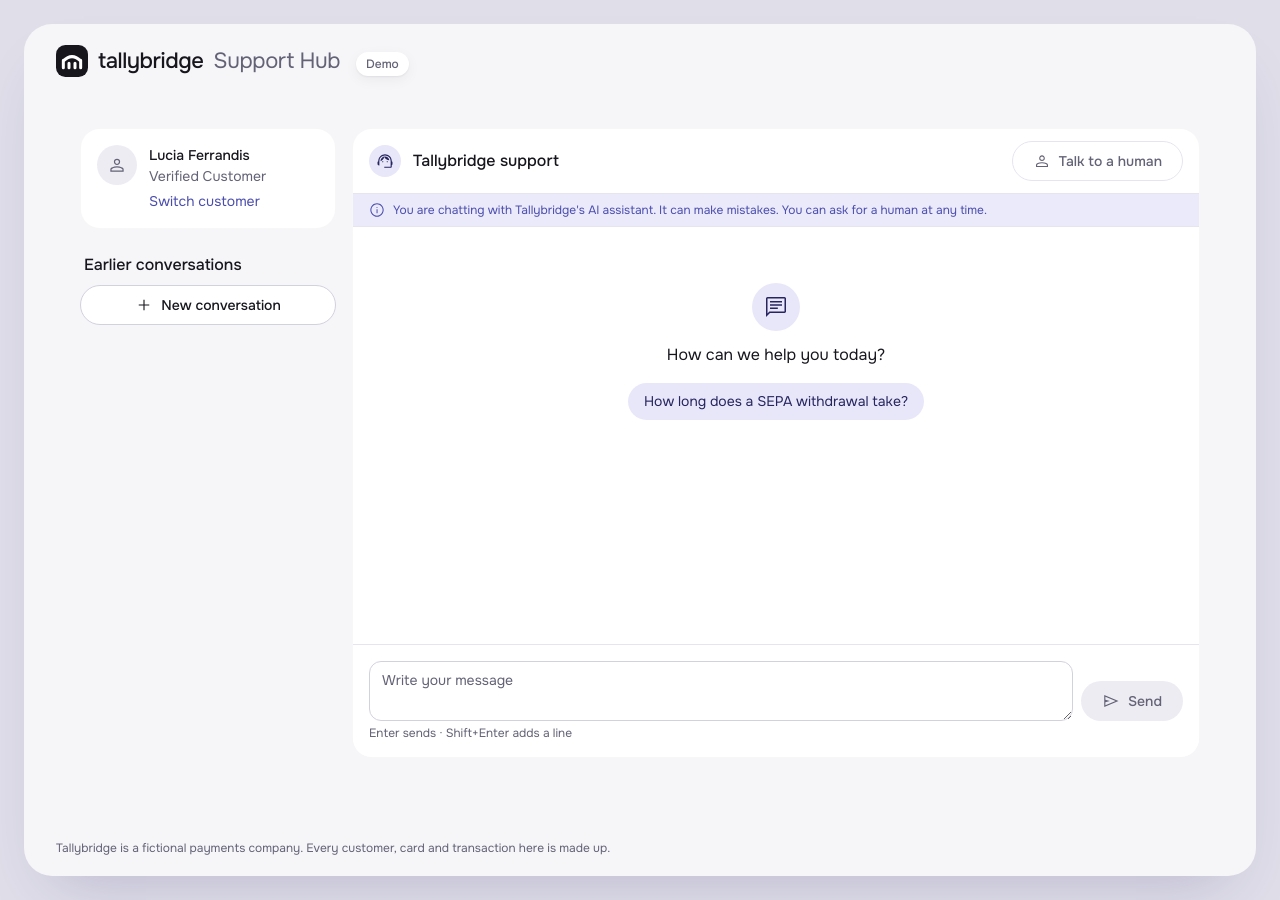
Test case: chat states (UI §2) › budget stop or failed run: says a human will answer
The width and height of the screenshot is (1280, 900).
Type "Hello" into the text box labelled "your message" at coordinates (721, 691), box [369, 661, 1073, 721]
Then press Enter
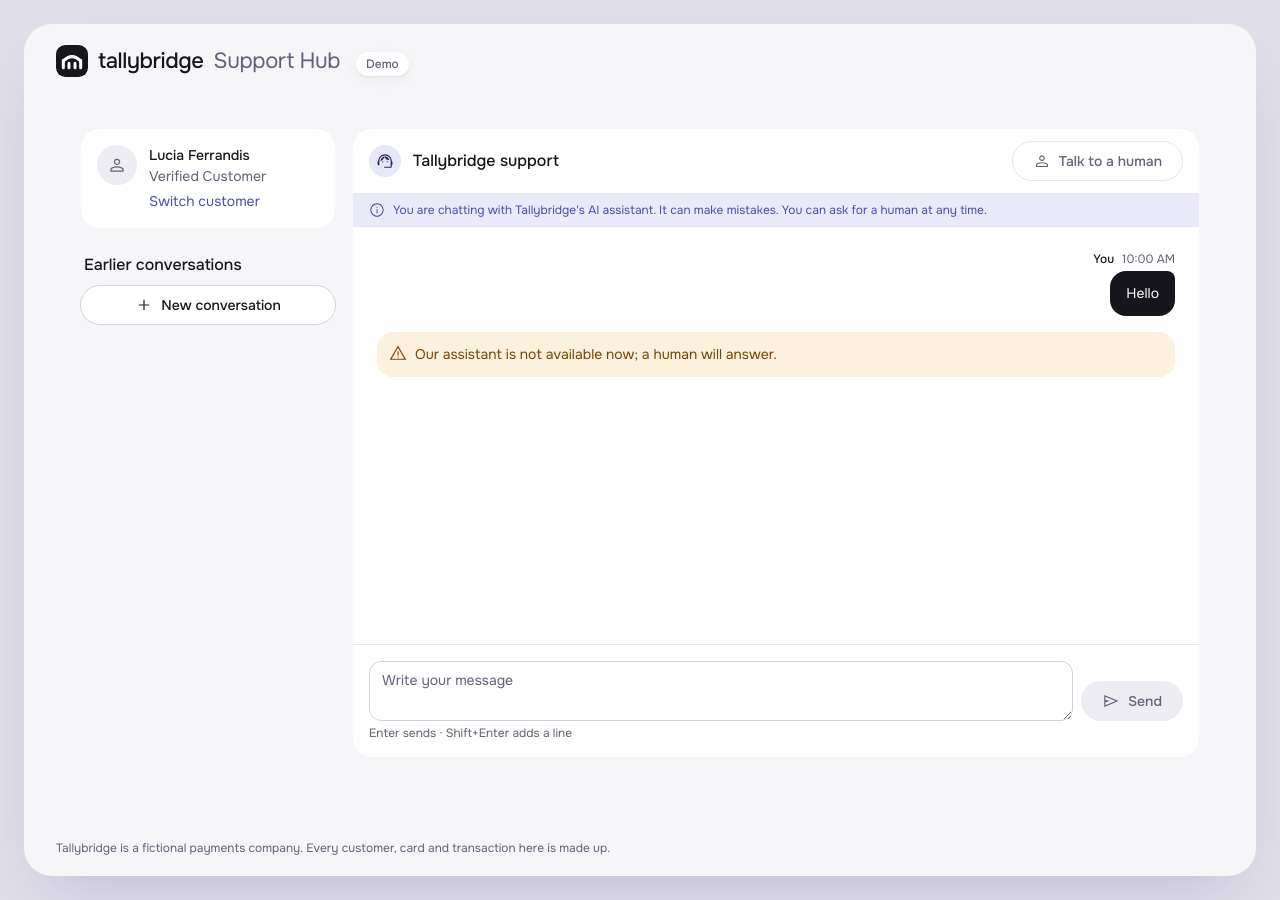
Check: the text "Our assistant is not available now; a human will answer." is shown, box [377, 332, 1175, 377]
